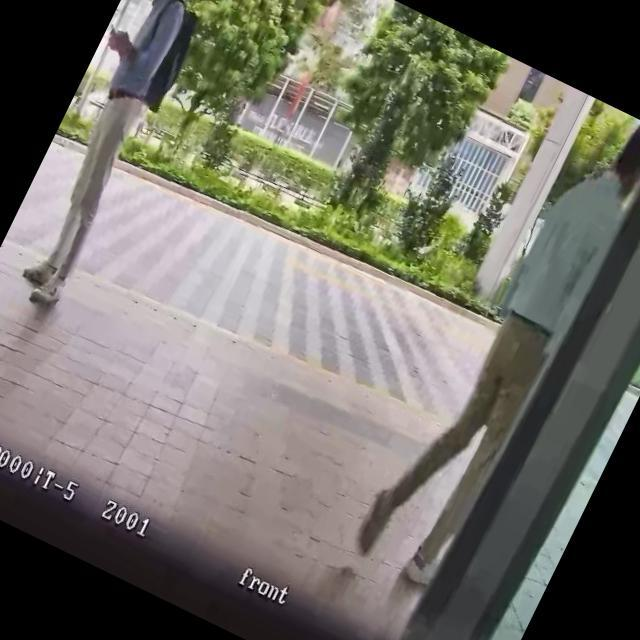person: (346, 89, 640, 599), (0, 0, 225, 310)
